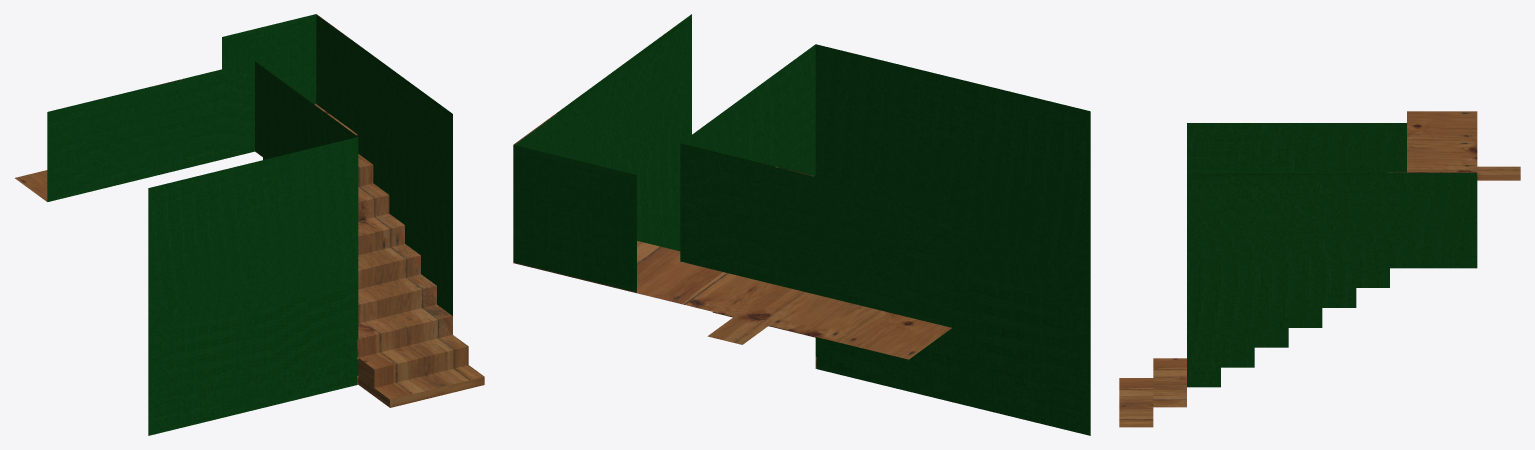
The model's file is ParedFachada.obj.
The picture shows the model from 3 angles, left to right: view 1: azimuth 30°, elevation 25°; view 2: azimuth 150°, elevation 25°; view 3: azimuth 270°, elevation 25°; orthographic projection. The views are drawn at different scales.
Parts seen in each view (by area): view 1: ParedFachada:ParedFachada_Plano_018; view 2: ParedFachada:ParedFachada_Plano_018; view 3: ParedFachada:ParedFachada_Plano_018.
Boxes of the visible parts, x1=… form: ParedFachada:ParedFachada_Plano_018: x1=15, y1=14, x2=484, y2=435; ParedFachada:ParedFachada_Plano_018: x1=513, y1=14, x2=1090, y2=435; ParedFachada:ParedFachada_Plano_018: x1=1119, y1=111, x2=1520, y2=427.
Size of the model in its own units: 25.25 by 19.64 by 27.07.
1 material, 1 textured.
